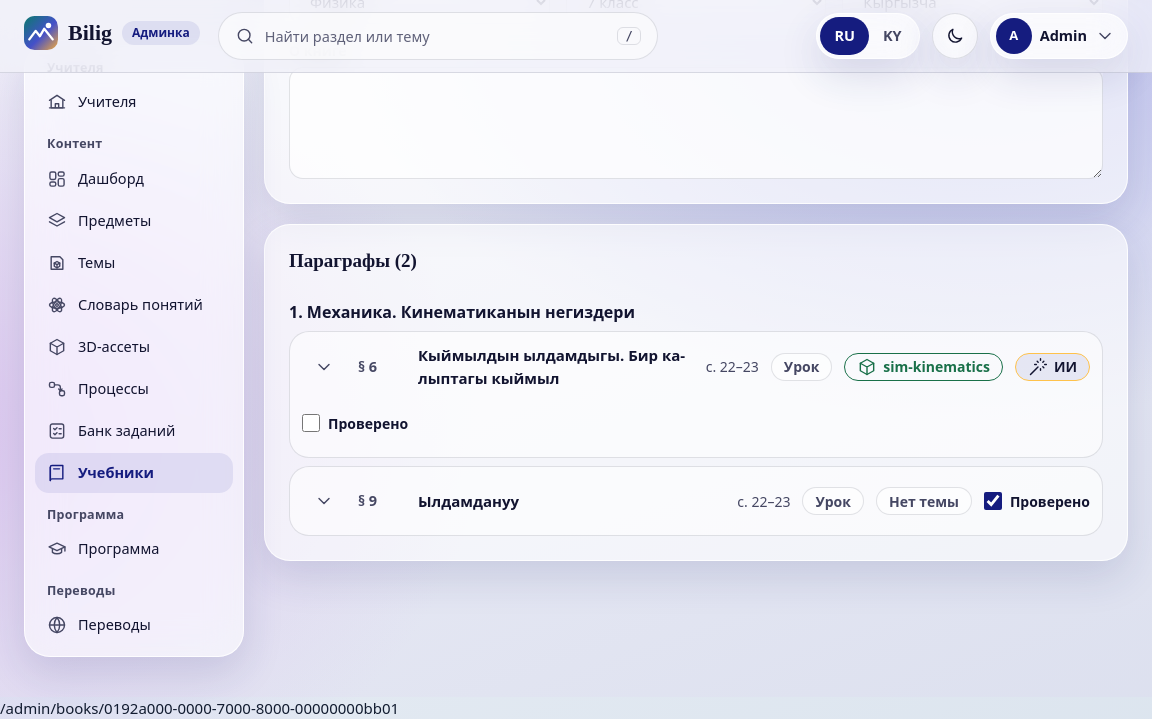
Test: books: the book page › edits one section: the PATCH carries only that section and its changed fields; then publish
(page scrolled)
Expected: the text "ИИ" is shown, [1015,353,1090,381]
Expected: the heading "1. Механика. Кинематиканын негиздери" is shown, [289,300,635,322]
Click the button named "Раскрыть: § 6" at (324, 367), box [302,345,346,389]
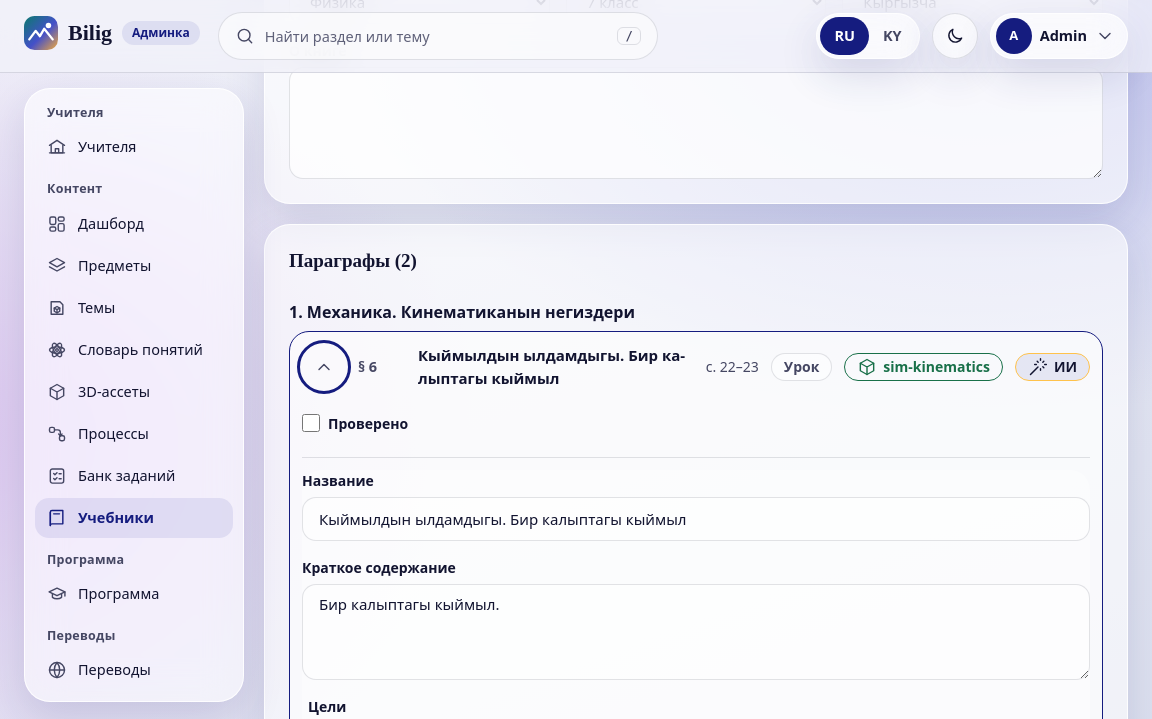
Replace the text in the text box labelled "Краткое содержание" with "Ылдамдык — жолдун убакытка катышы." at (696, 632), box [302,584,1090,680]
(page scrolled)
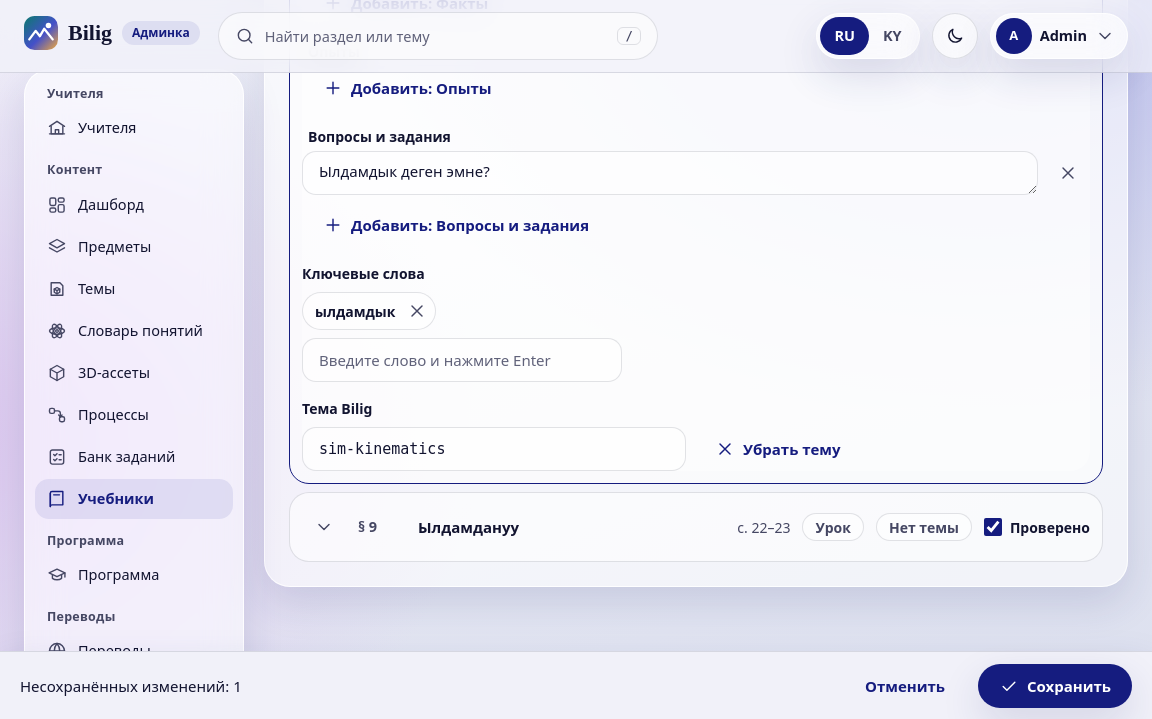
Type "бир калыптагы кыймыл" into the field labelled "Ключевые слова" at (462, 360), box [302,338,622,382]
Then press Enter
(page scrolled)
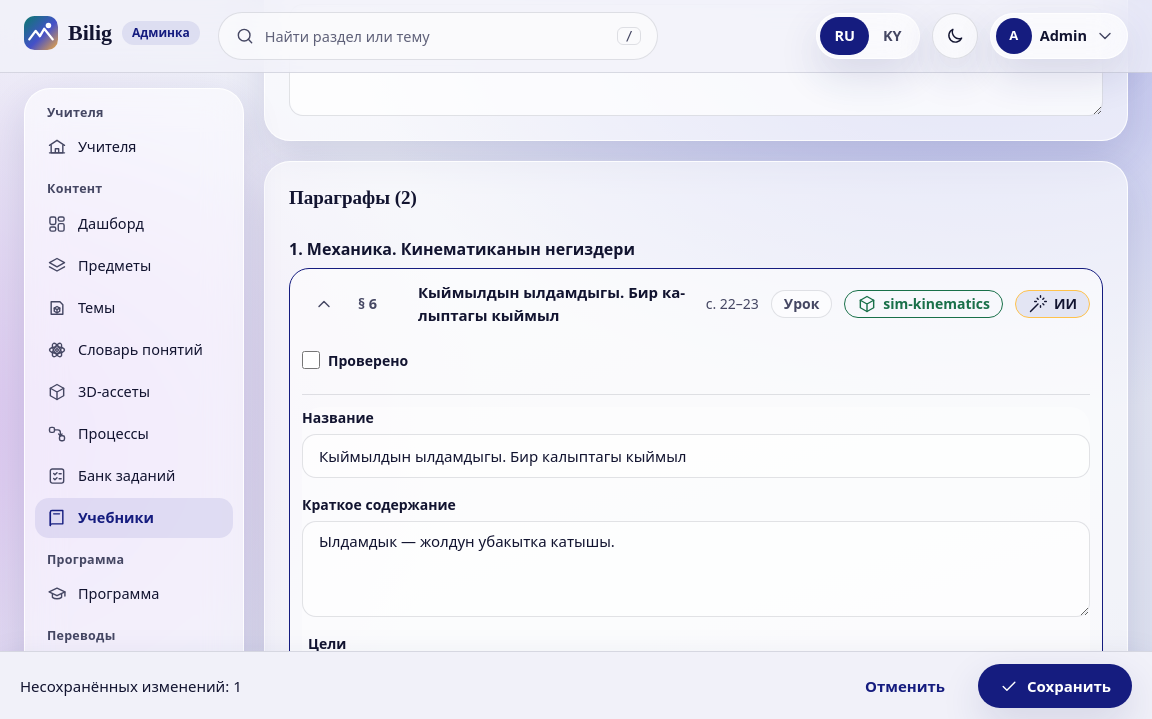
Click the checkbox labelled "Проверено" at (311, 360), box [302,351,320,369]
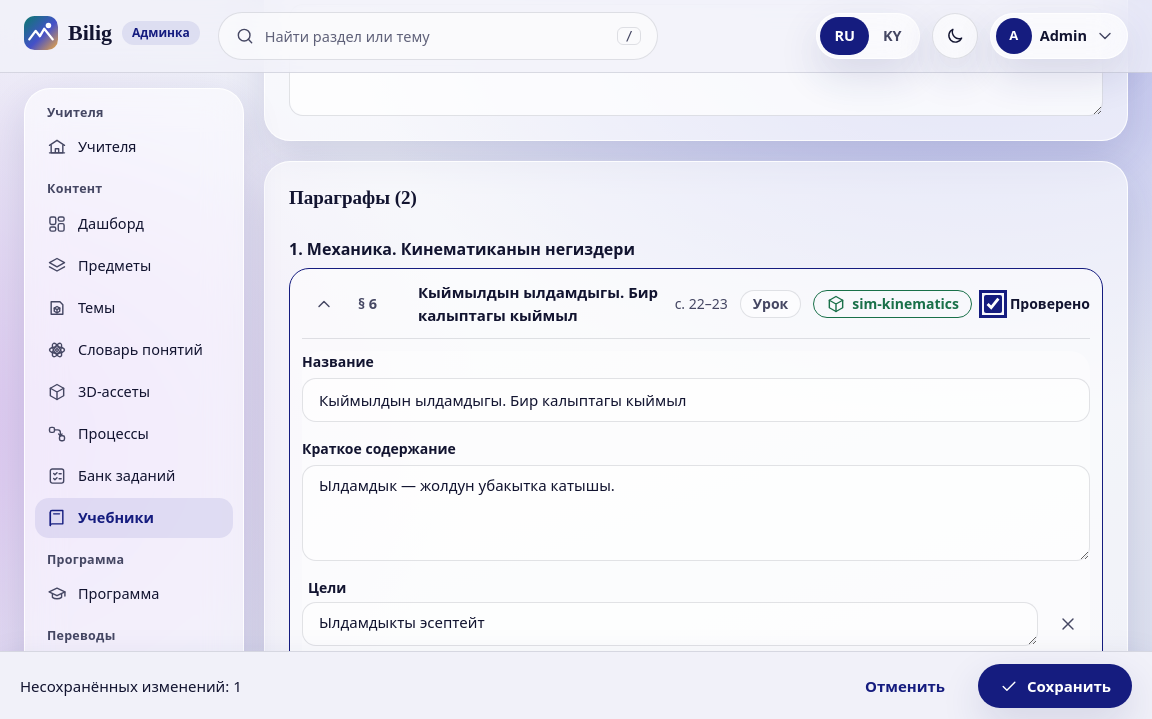
Click the button "Сохранить" at (1055, 686), box [978,664,1132,708]
(page scrolled)
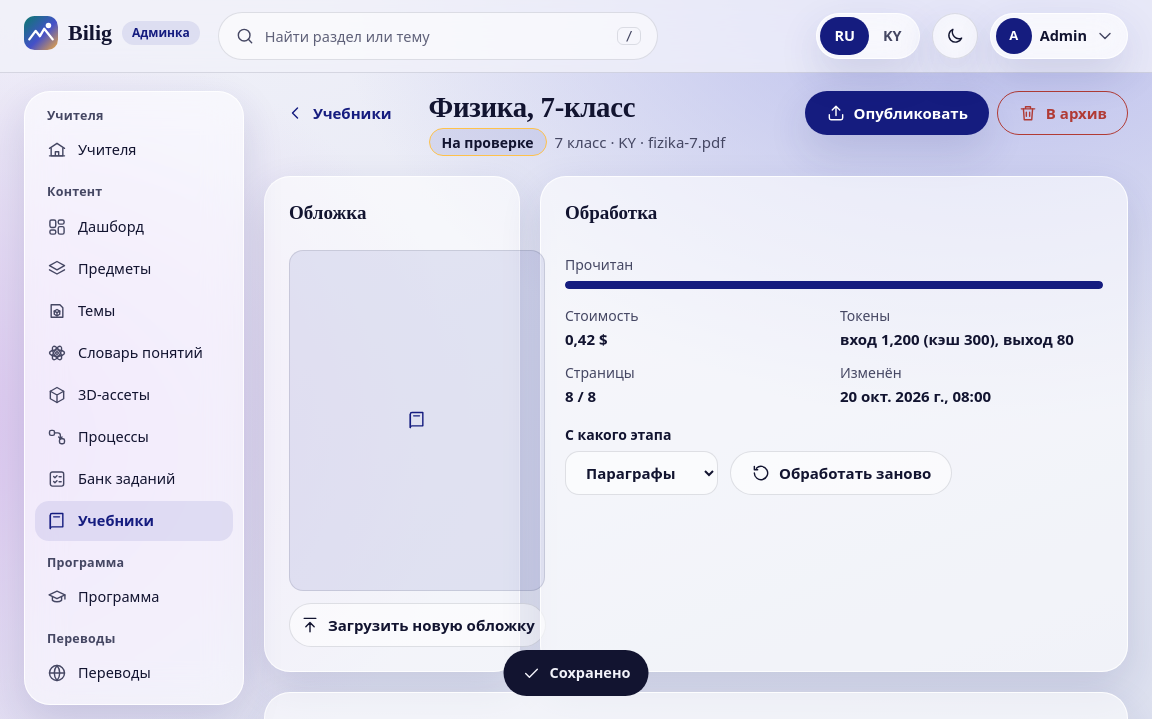
Expected: the text "ИИ" is not shown
Click the button "Опубликовать" at (897, 113), box [804,91,989,135]
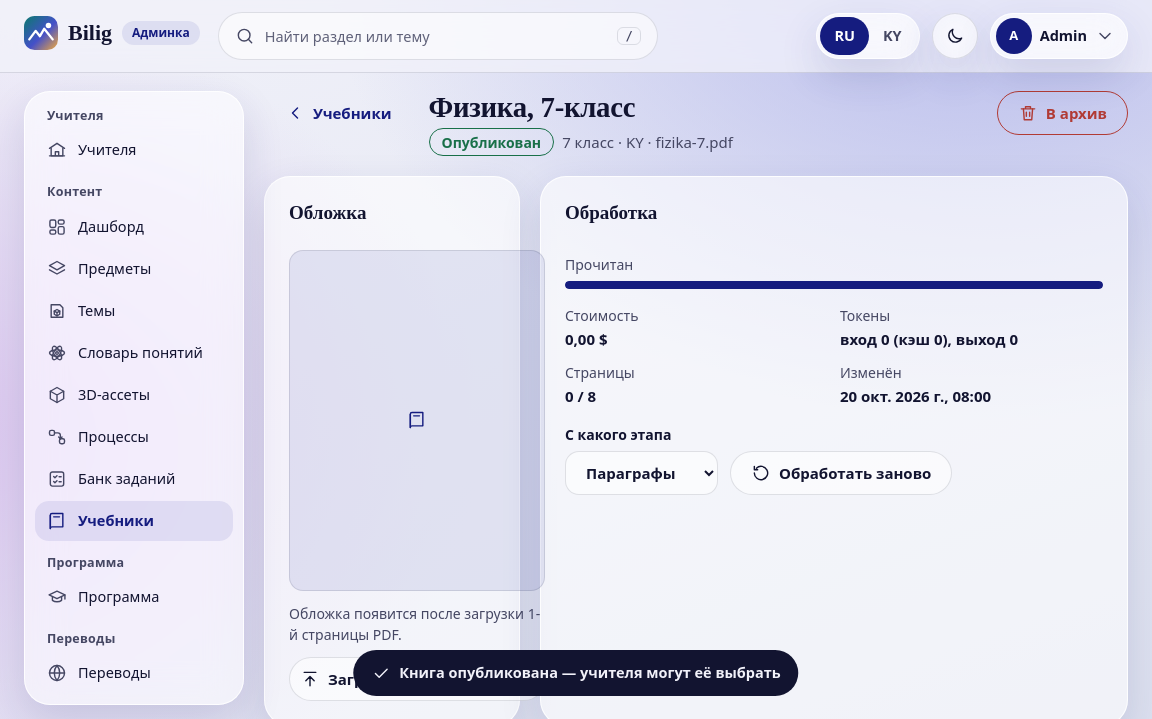
Expected: the text "Опубликован" is shown, [428,128,554,156]
